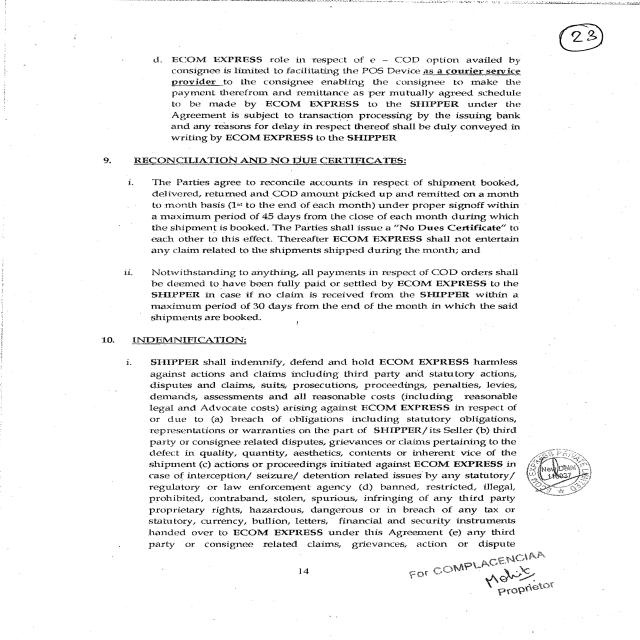page-number: (522, 5, 638, 105)
